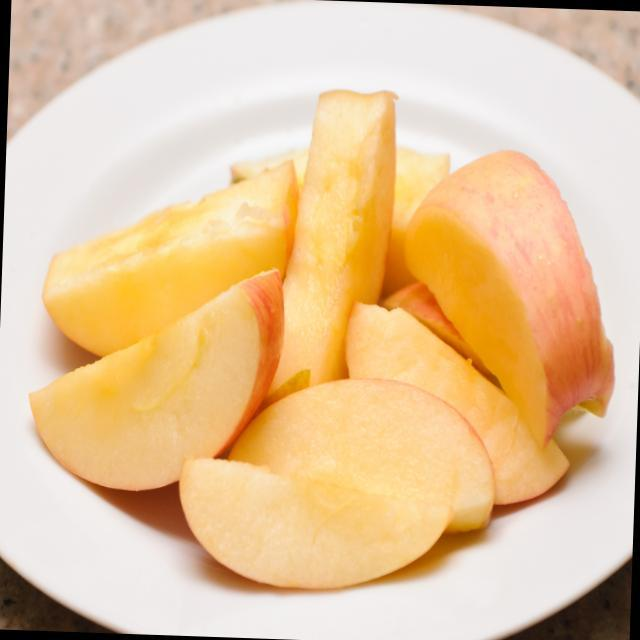APPLE: (420, 140, 640, 387), (13, 256, 258, 467), (80, 138, 300, 324), (169, 468, 451, 584)
